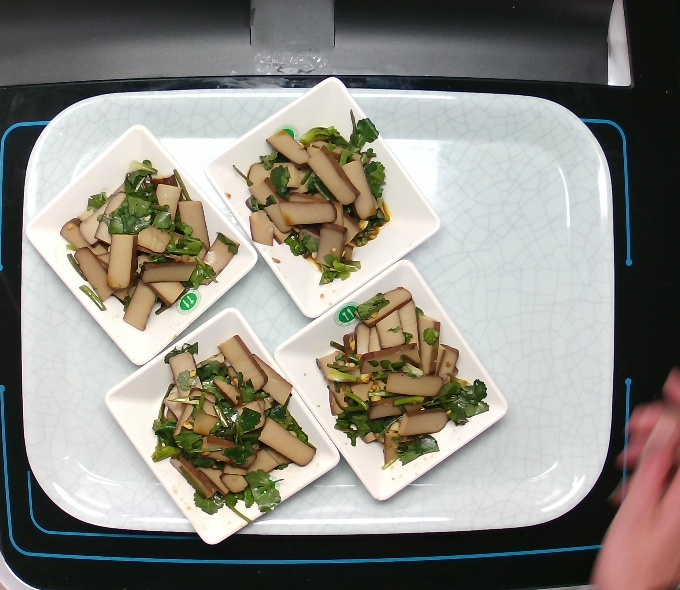wcq-JiDanGan: (313, 277, 490, 491), (54, 147, 243, 343), (145, 329, 325, 522), (227, 94, 396, 296)
